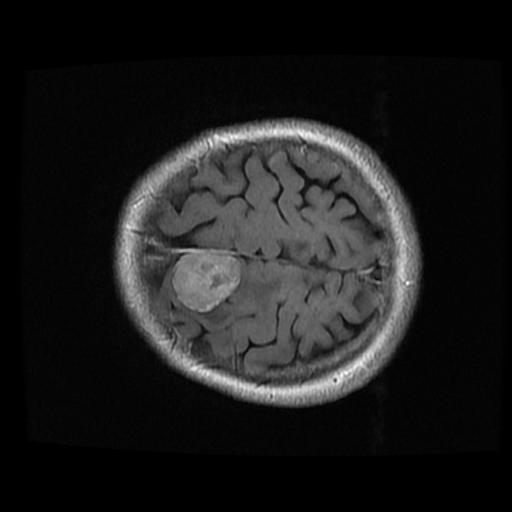meningioma: (171, 254, 237, 309)
